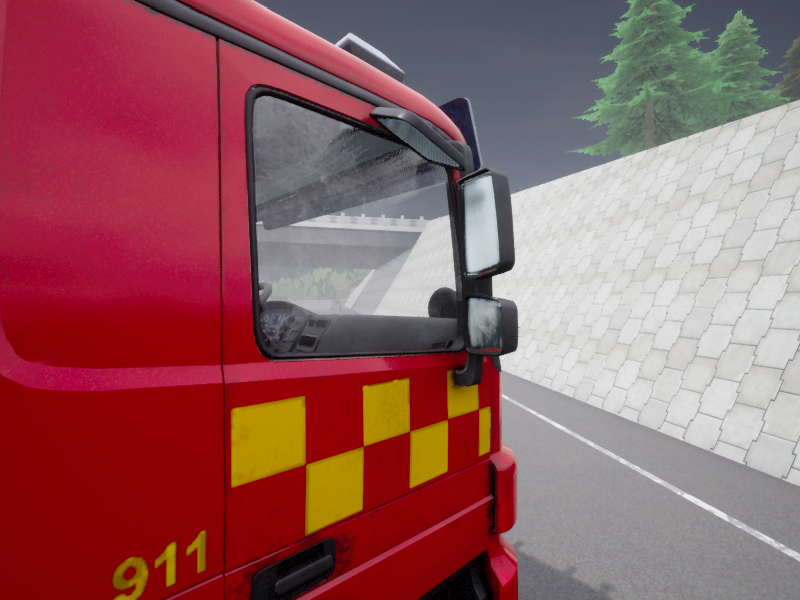vehicle: (0, 0, 517, 599)
